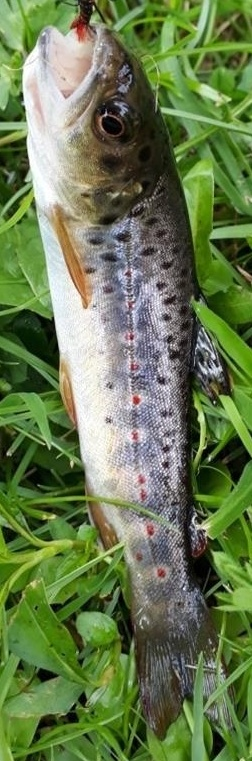Salmo trutta subsp. fario: (20, 20, 232, 741)
